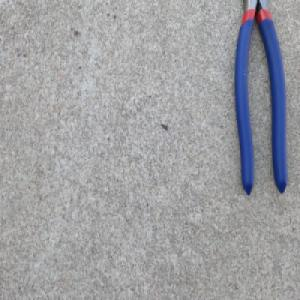Pliers: (233, 0, 288, 198)
